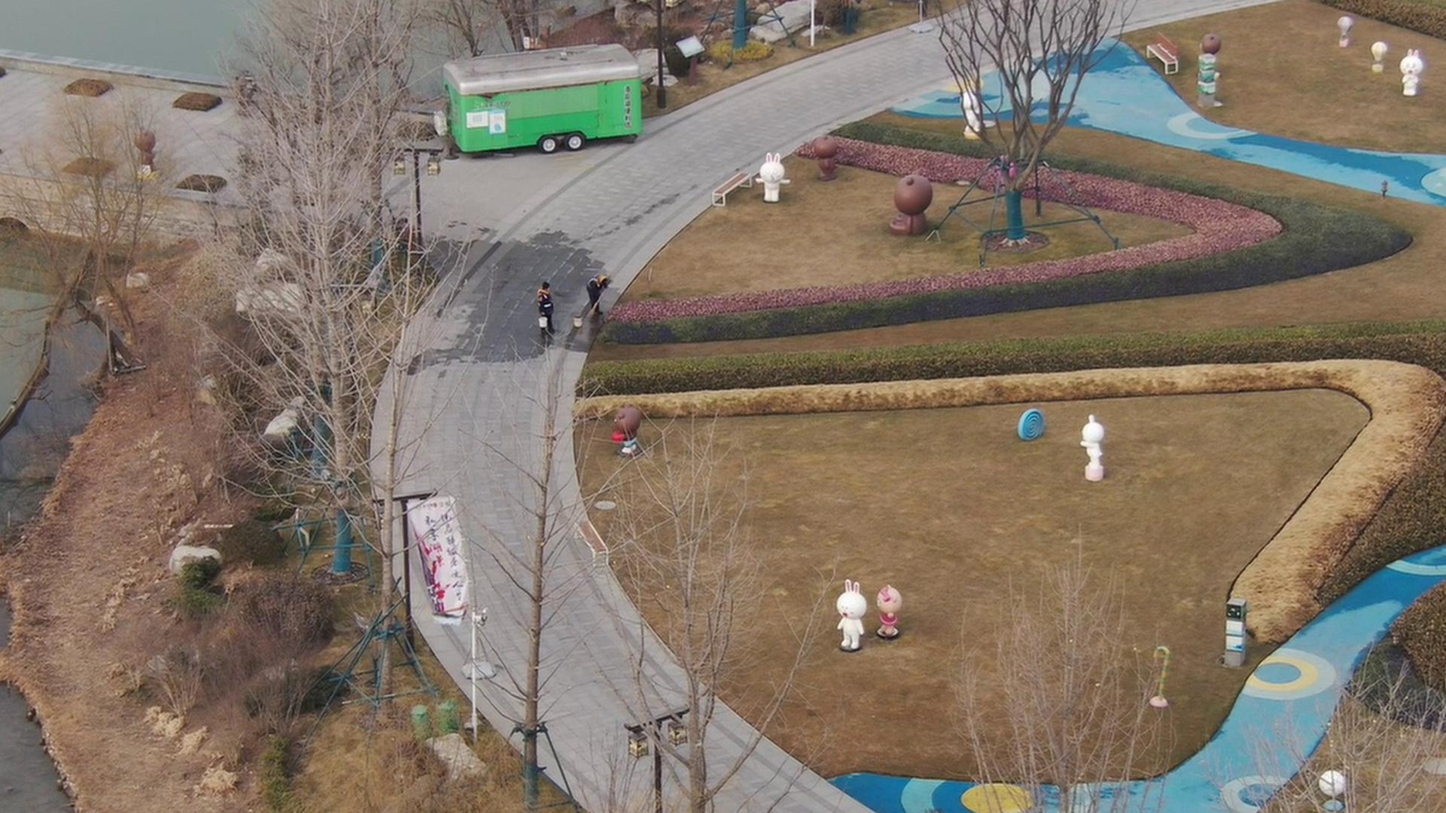human: (529, 263, 561, 330), (578, 261, 612, 316)
